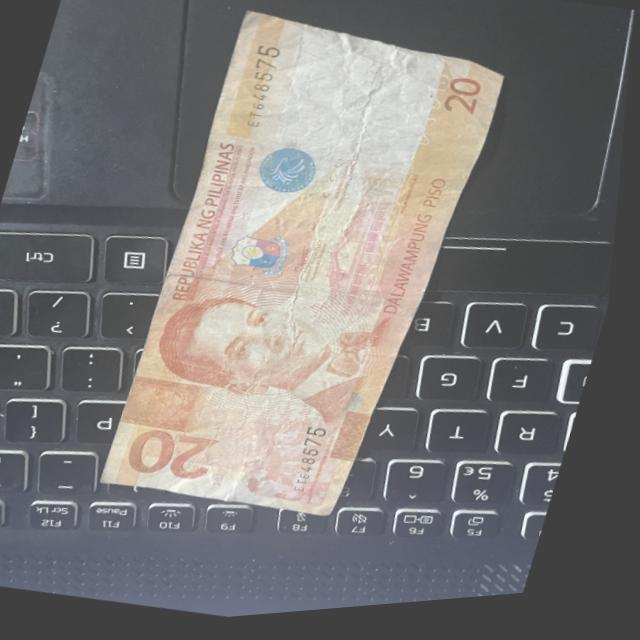concealed_value: (121, 374, 219, 444)
serial_number: (223, 37, 291, 142), (289, 413, 344, 511)
value: (127, 409, 246, 503)
watermark: (233, 30, 437, 180)
